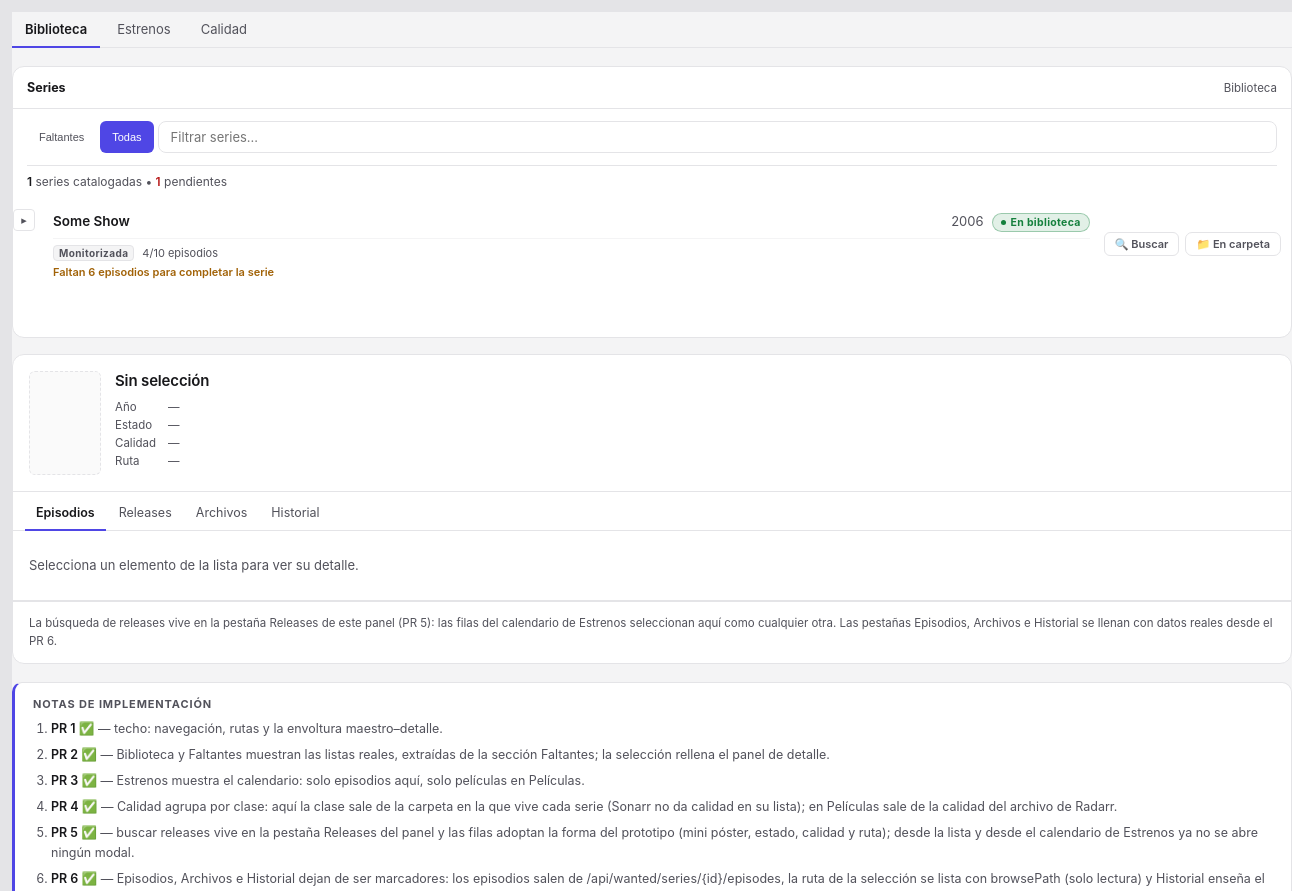
Series · PR 2 wiring › fills the detail panel with the selected episode’s own data
Expected: the text "Some Show" is shown, [53,212,130,228]
Step 1. Click the button "Faltantes" → (62, 137), box [27,121,96,153]
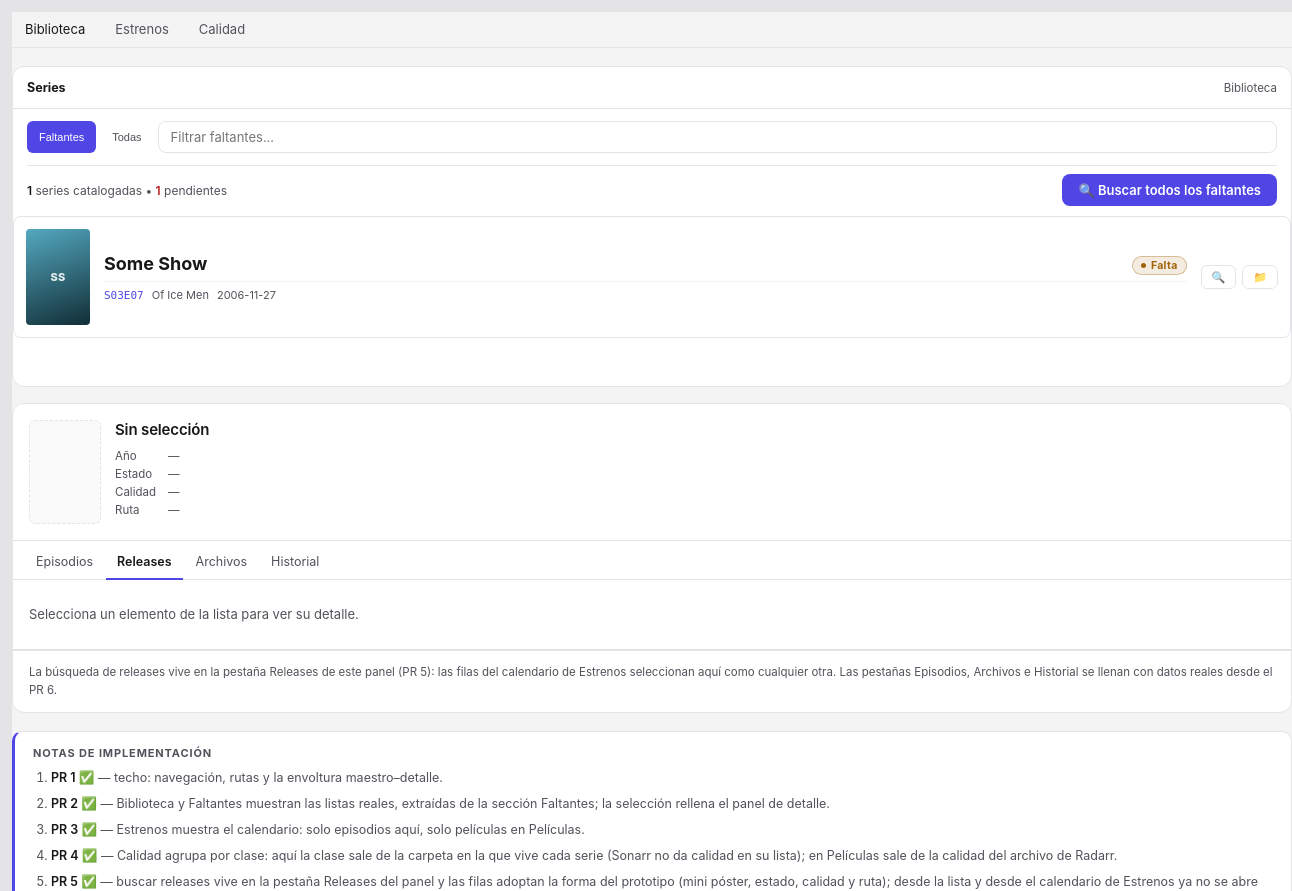
Now the text "Of Ice Men" is shown, box [152,288,209,302]
Step 2. Click the element with class "wanted-row" → (652, 277), box [13,216,1291,338]
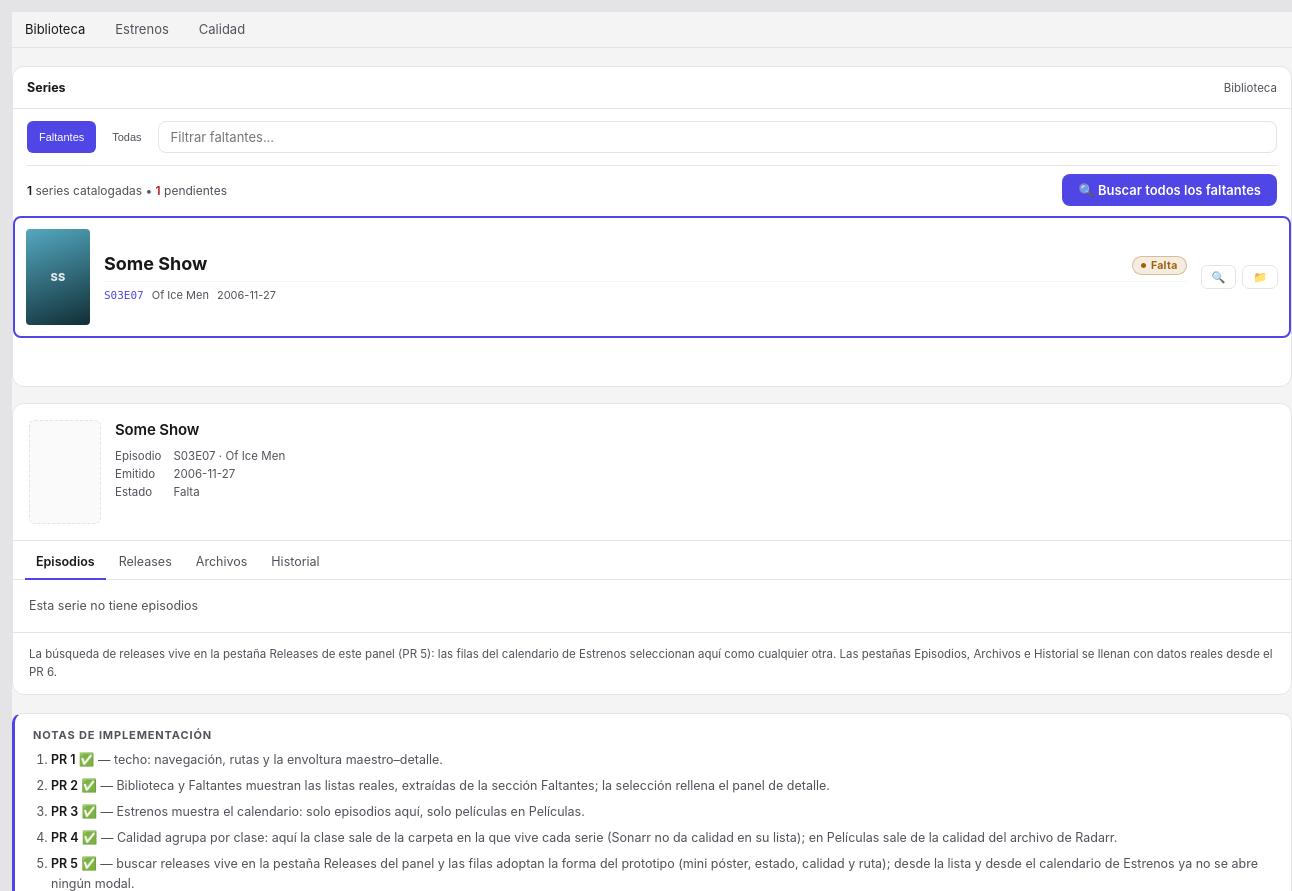
Now the heading "Some Show" is shown, box [115,420,199,439]
Now the text "S03E07 · Of Ice Men" is shown, box [173,449,285,463]
Now the text "2006-11-27" next to "Emitido" is shown, box [173,467,235,481]
